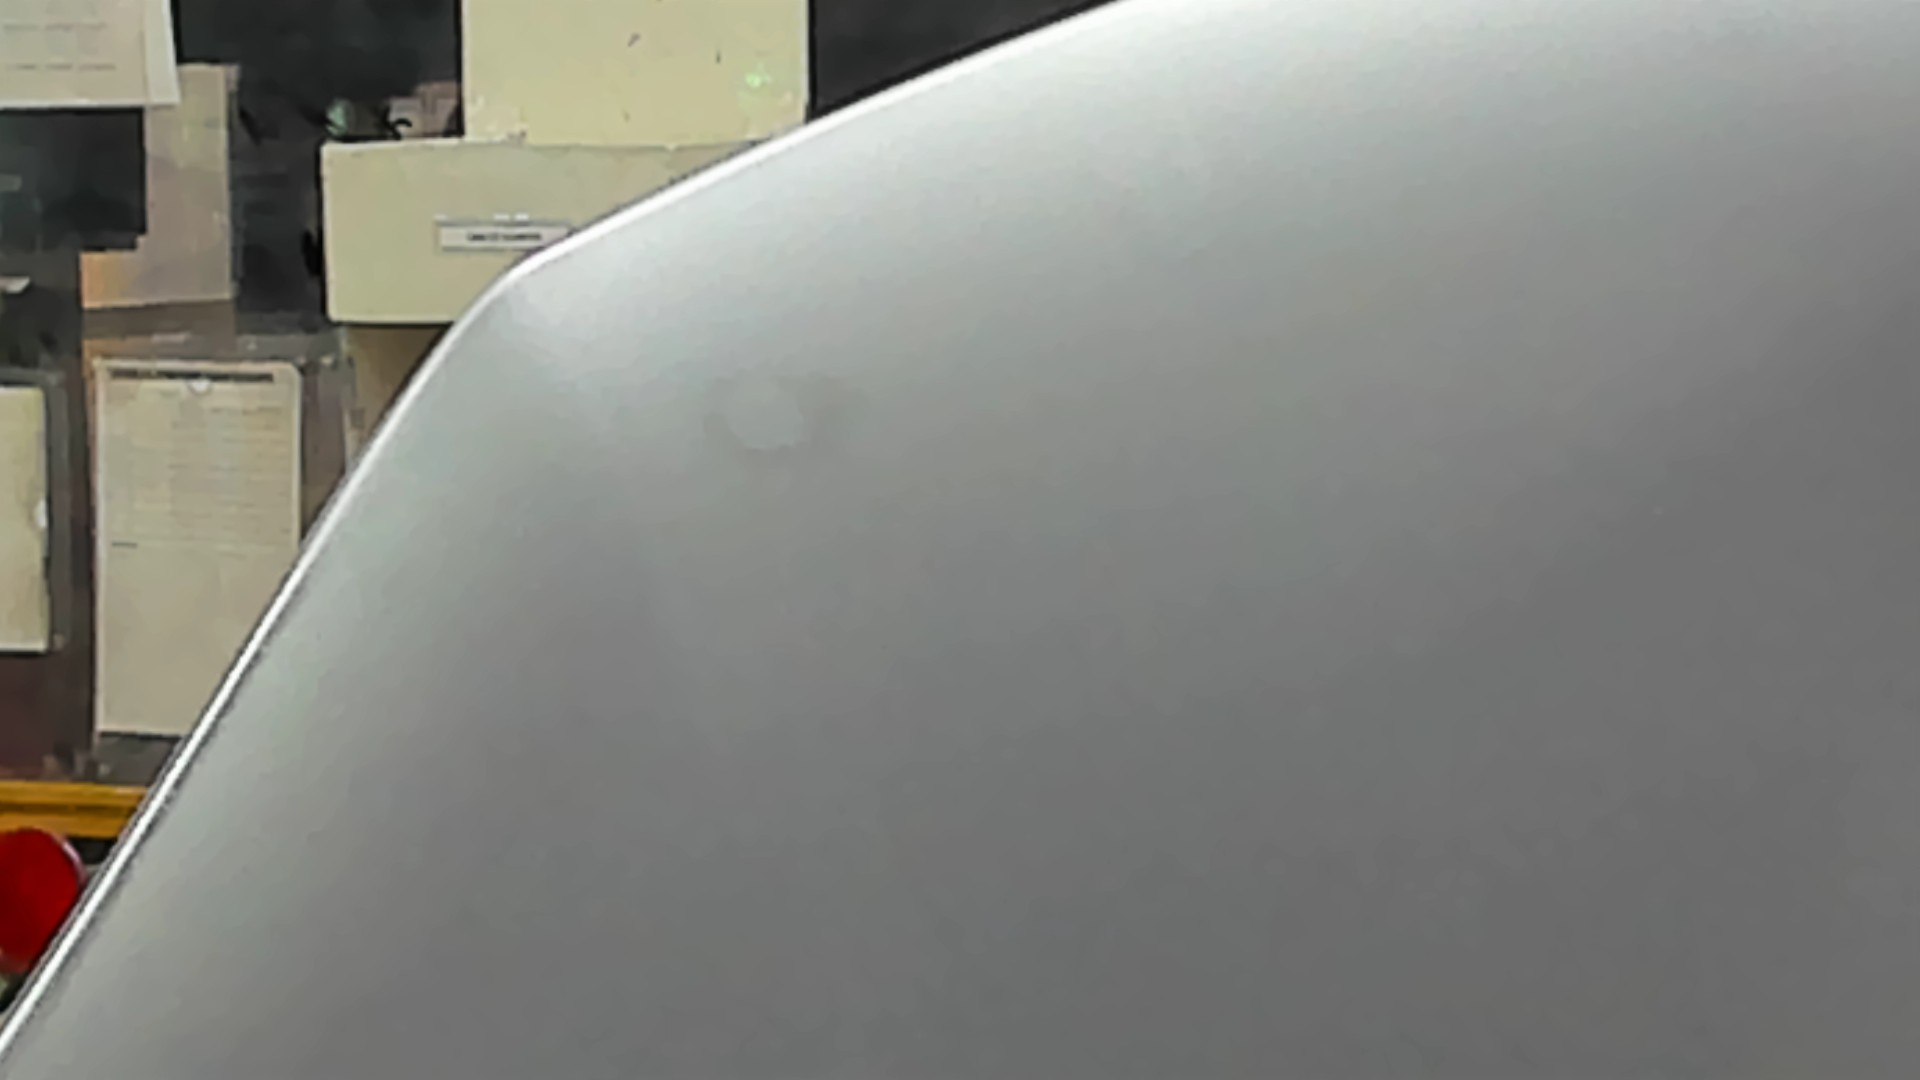capo: (760, 189, 1920, 1080)
